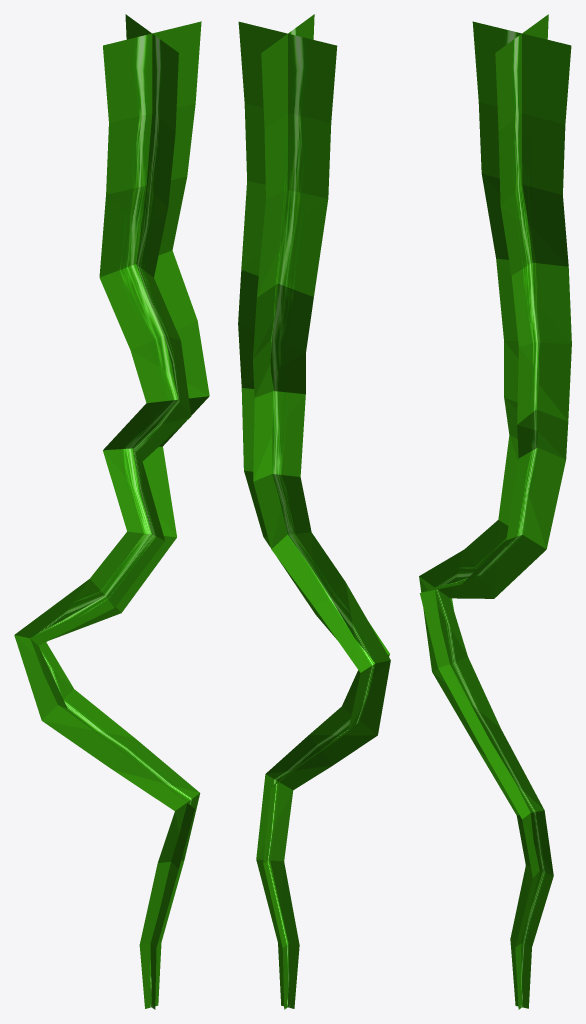
The model's file is tx_vehicle_jinjixiuli_fire.obj.
The picture shows the model from 3 angles, left to right: view 1: azimuth 30°, elevation 25°; view 2: azimuth 150°, elevation 25°; view 3: azimuth 330°, elevation 25°; orthographic projection.
Visible parts, largest first — view 1: Plane07; view 2: Plane07; view 3: Plane07.
Boxes of the visible parts, box(x1,y1,x2,y2) form: Plane07: box(14, 14, 209, 1009); Plane07: box(238, 14, 390, 1009); Plane07: box(419, 14, 571, 1009).
Size of the model in its own units: 35.36 by 191 by 21.08.
1 material, 1 textured.
